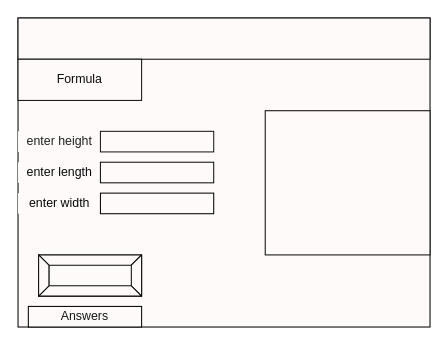
This 448x345 diagram has some shape labels left out. The shapes that lost their labels are listed below. From the top down, each one's centre as x and y in pixels, then its label:
At (223,38): "volume of pyramid with js".
At (347,182): "image of pyramid".
At (90,275): "Calculate".
